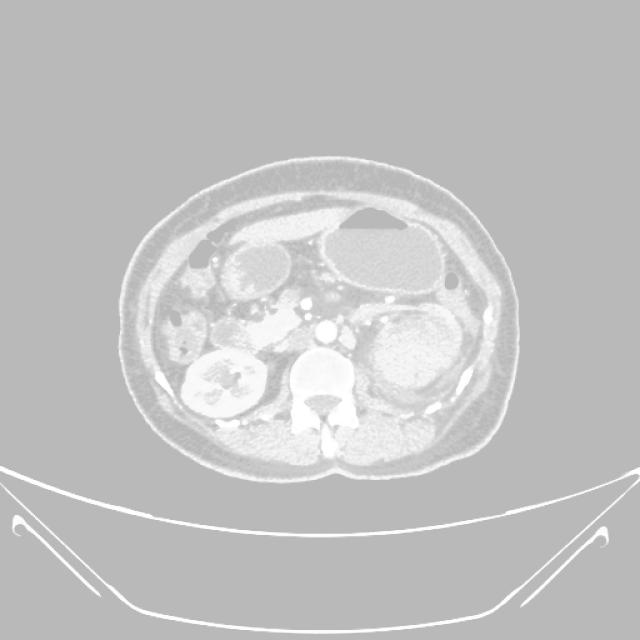TUMOR: (179, 188, 430, 350)
